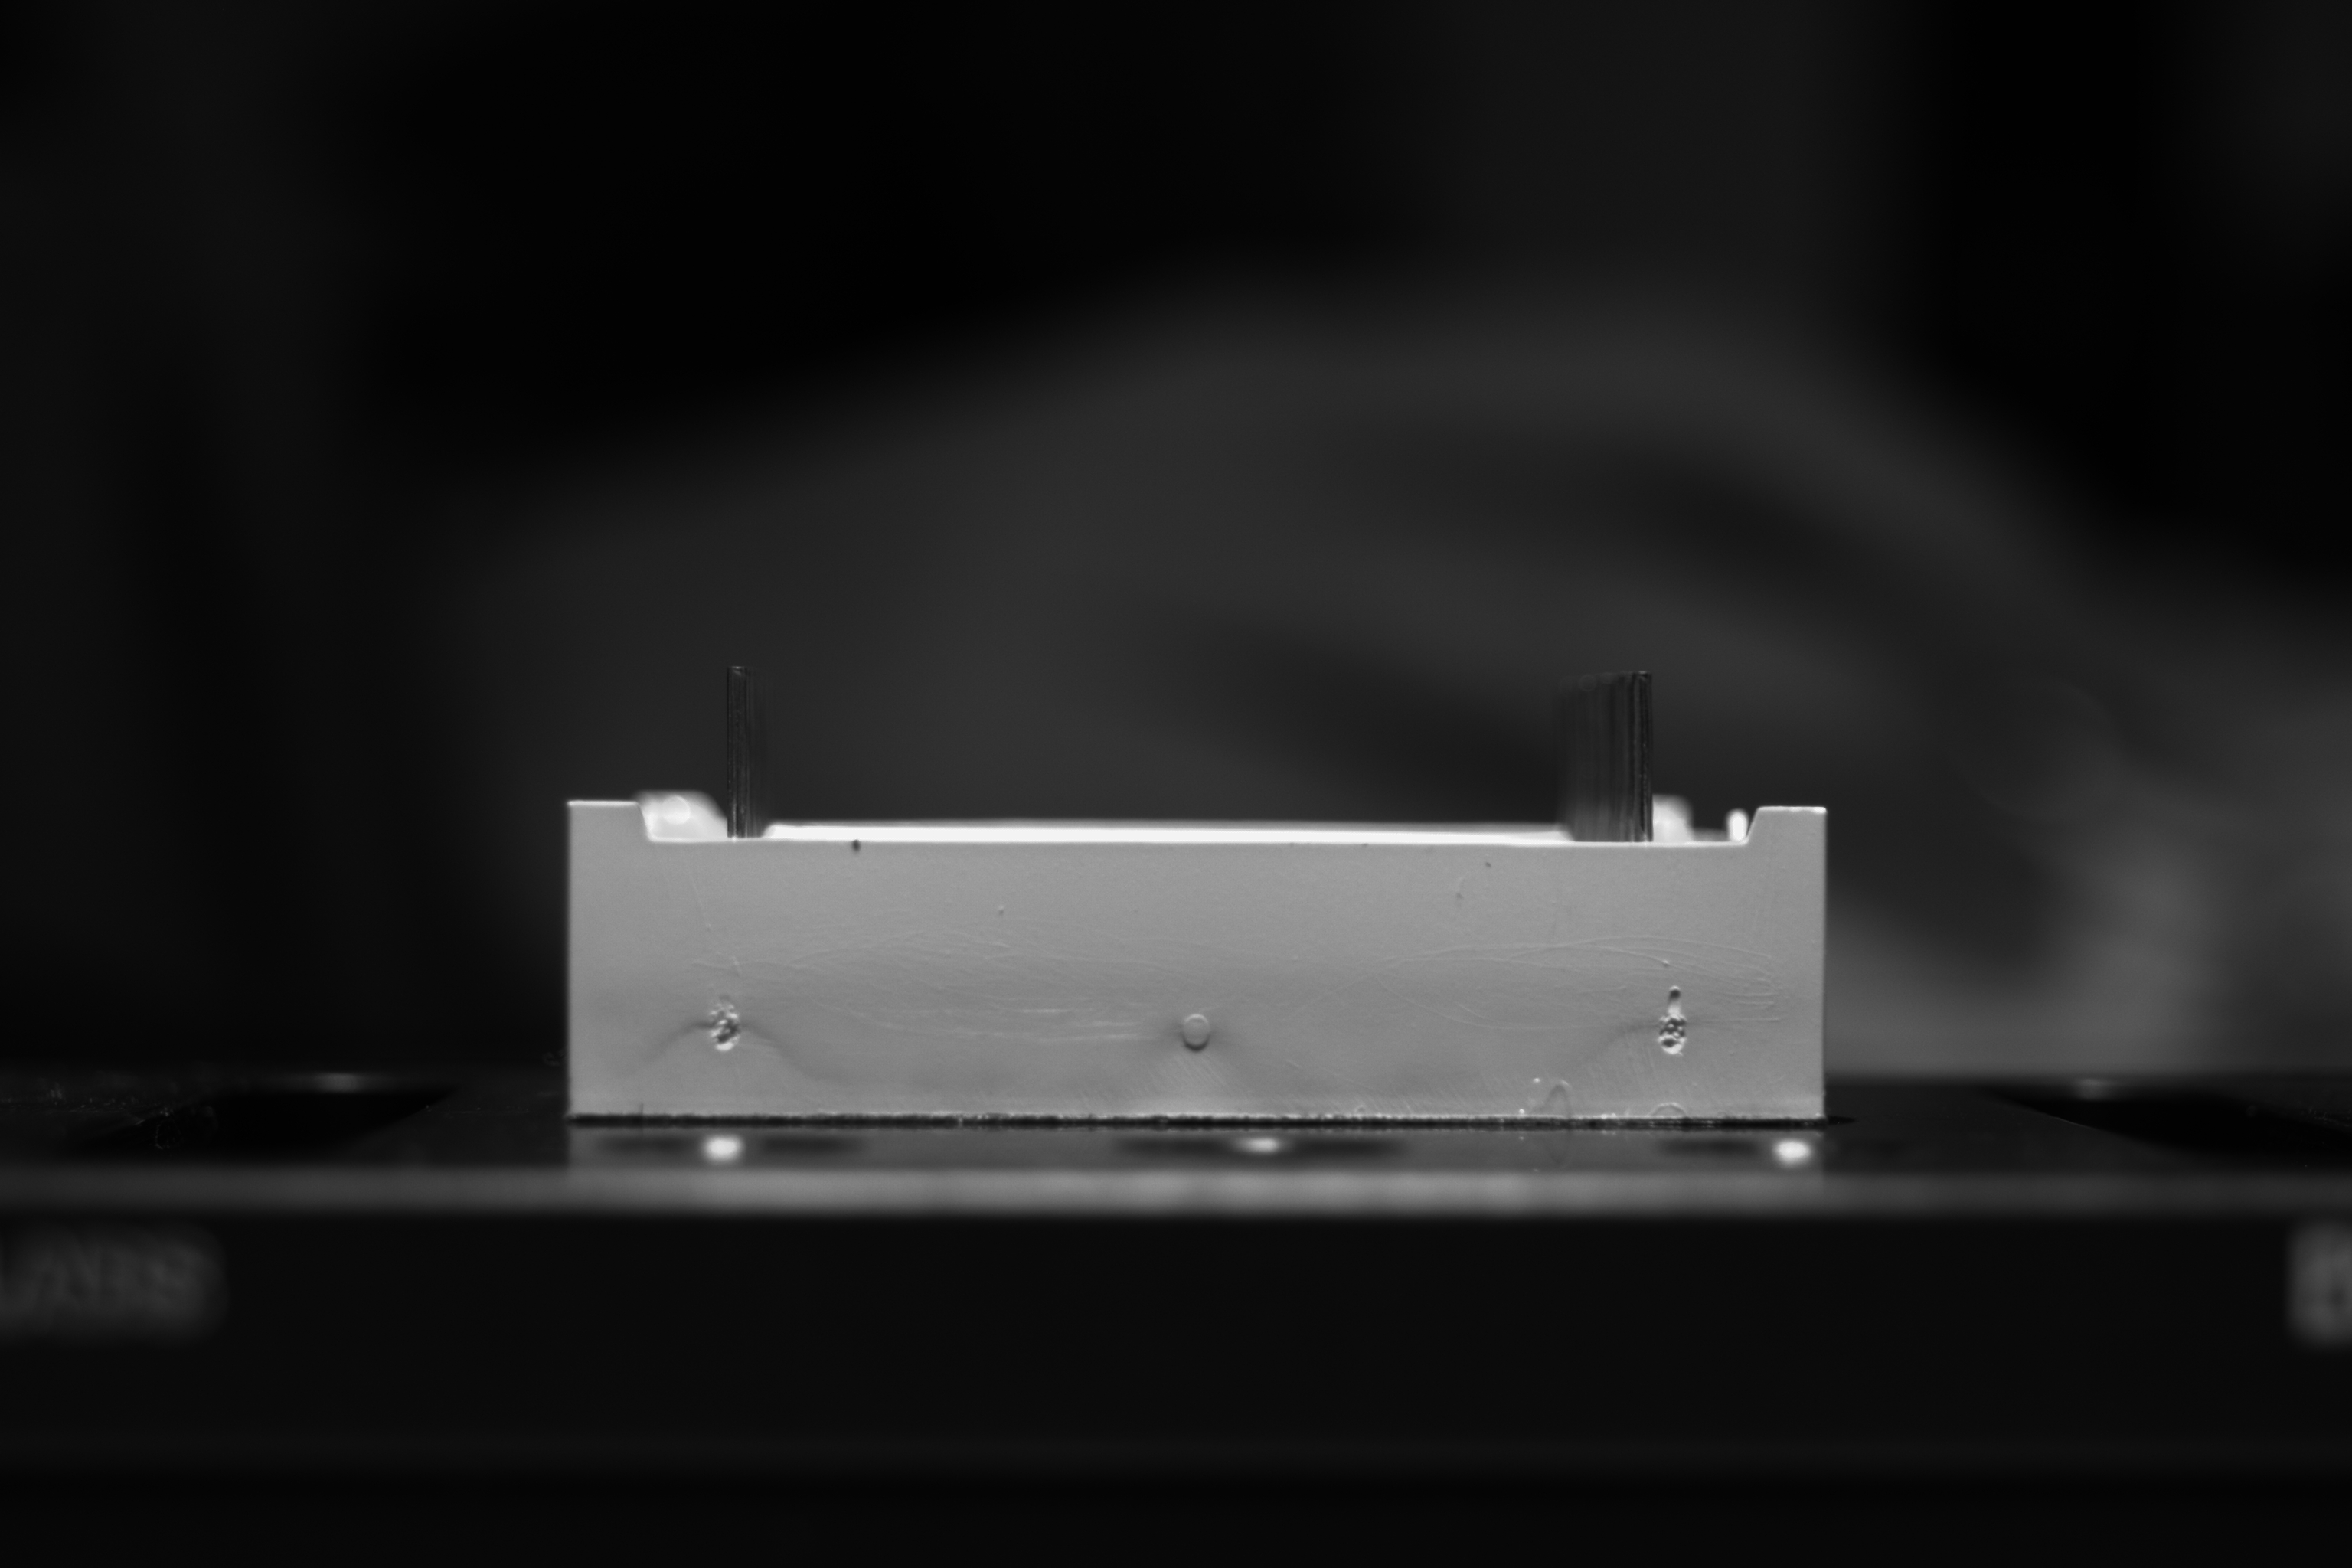Component: (556, 660, 1832, 1123)
Injection_hole: (1657, 983, 1690, 1059), (709, 992, 742, 1053)
